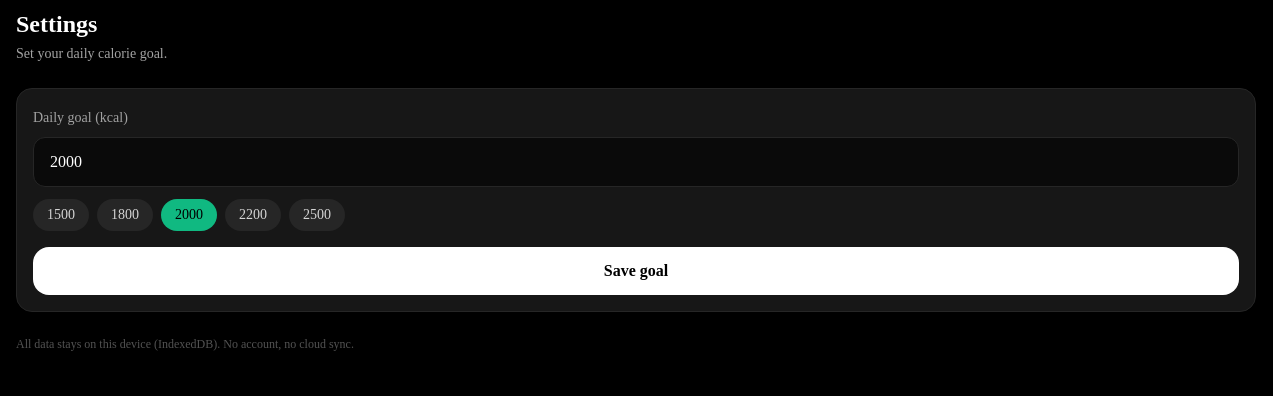
it: SettingsScreen — BUG-10 goal validation, bounds, comma/space parsing › shows an inline error and does not save for invalid input -5
The image size is (1273, 396).
Replace the text in the field labelled "Daily goal (kcal)" with "-5" at (636, 162), box [33, 137, 1239, 187]
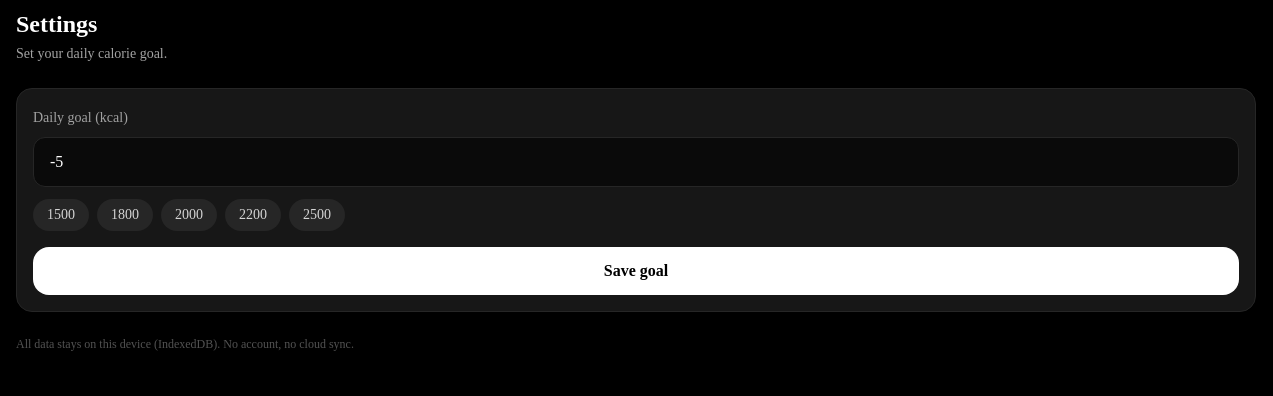
Click the button "Save goal".
click(636, 271)  # box [33, 247, 1239, 295]
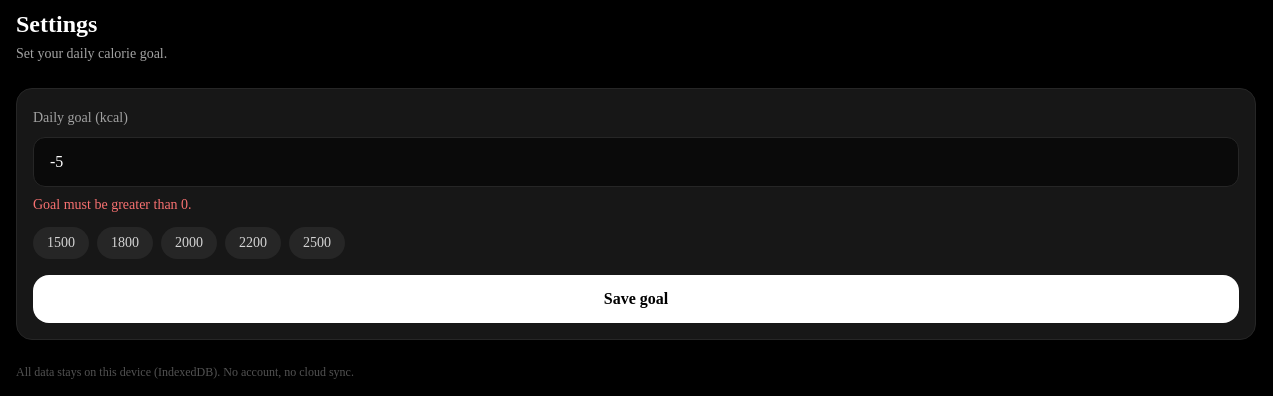
Check: the message "Goal must be greater than 0." is shown, box [33, 197, 192, 212]
